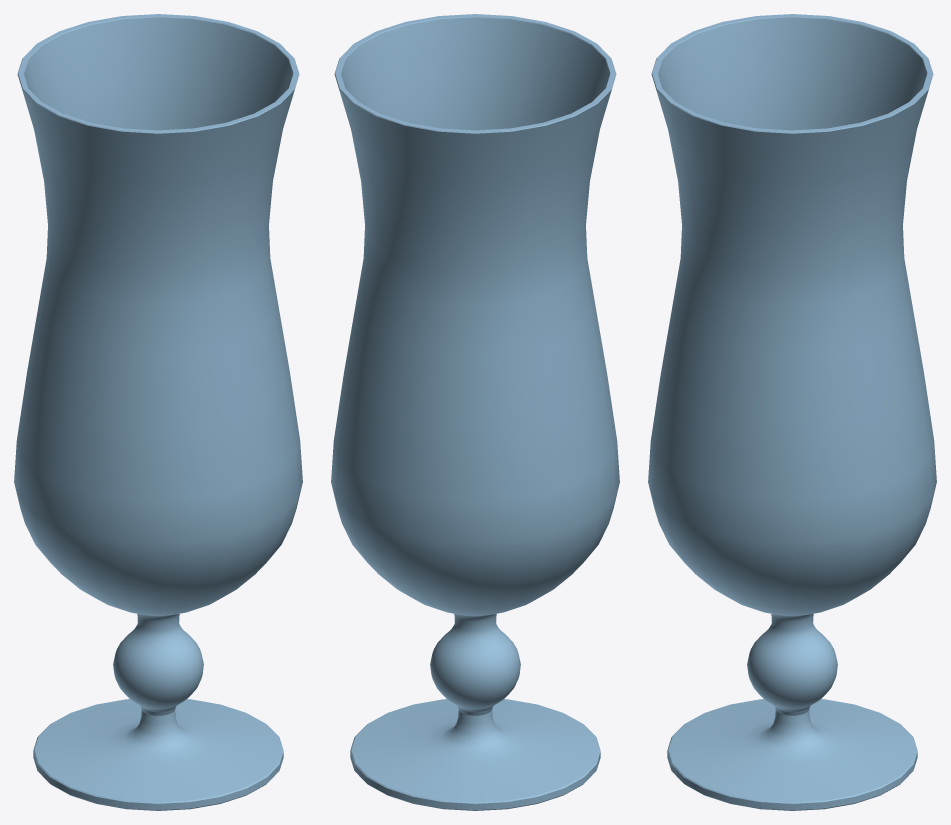
Rendered from kokteyl_glass.FBX.
The picture shows the model from 3 angles, left to right: view 1: azimuth 30°, elevation 25°; view 2: azimuth 150°, elevation 25°; view 3: azimuth 270°, elevation 25°; orthographic projection.
Visible parts, largest first — view 1: kokteyl_glass; view 2: kokteyl_glass; view 3: kokteyl_glass.
Boxes of the visible parts, <box> form: kokteyl_glass: <box>14,14,302,810</box>; kokteyl_glass: <box>331,14,619,810</box>; kokteyl_glass: <box>648,14,936,810</box>.
Bounding box in the file's own units: 80.53 × 211 × 80.53.
